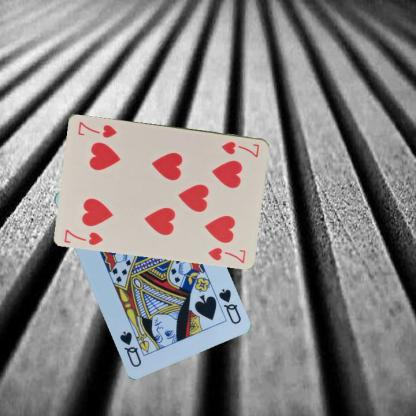7h: (62, 226, 104, 246), (219, 139, 260, 158)
Qs: (216, 286, 242, 326)
